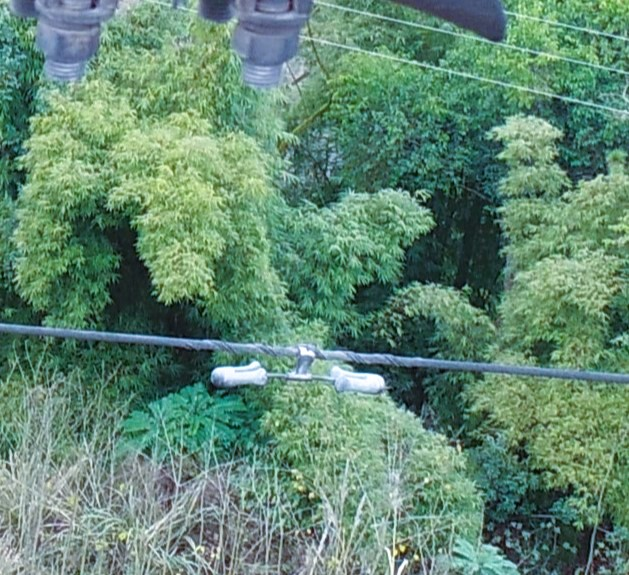Shockproof hammer: (197, 328, 390, 405)
